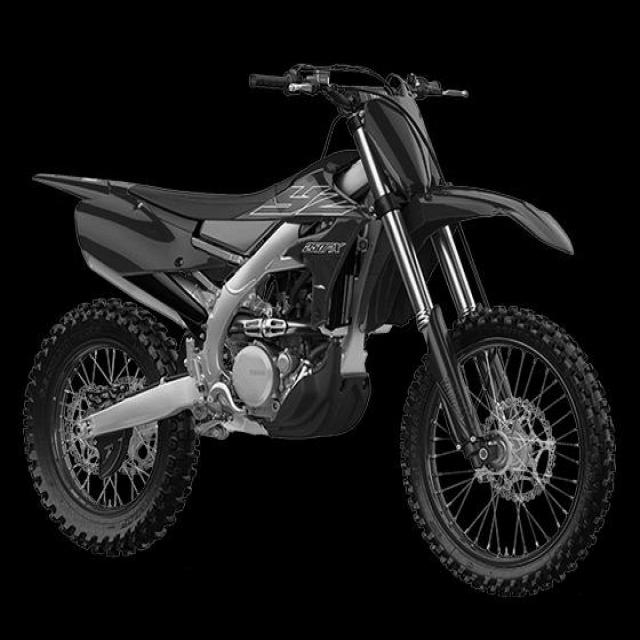Motorcycle: (23, 63, 615, 598)
